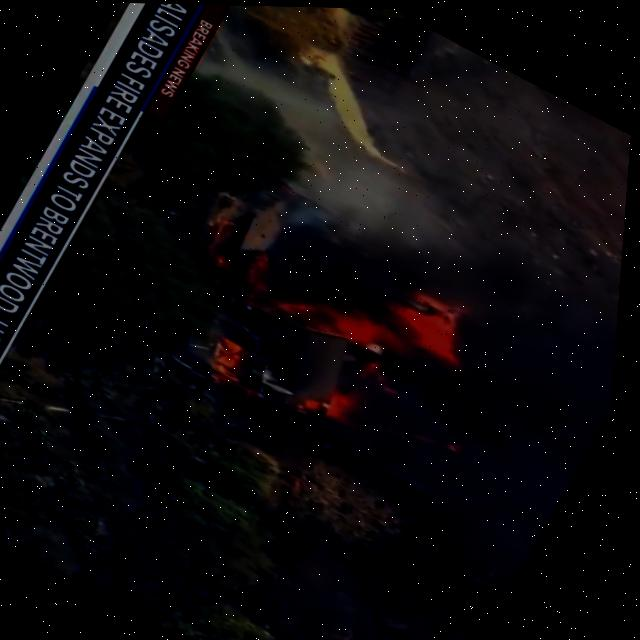Smoke: (377, 289, 624, 557)
